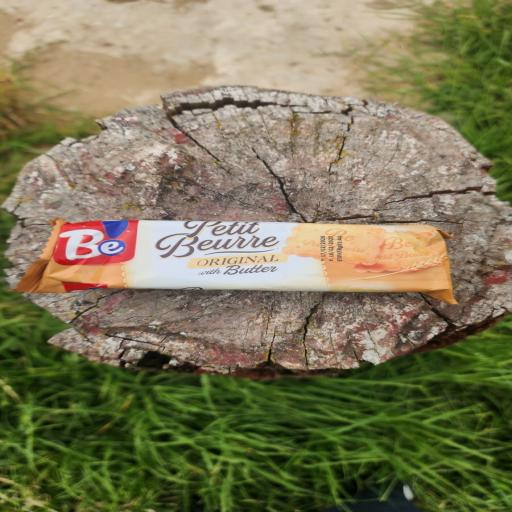petit-beurre: (17, 192, 489, 344)
